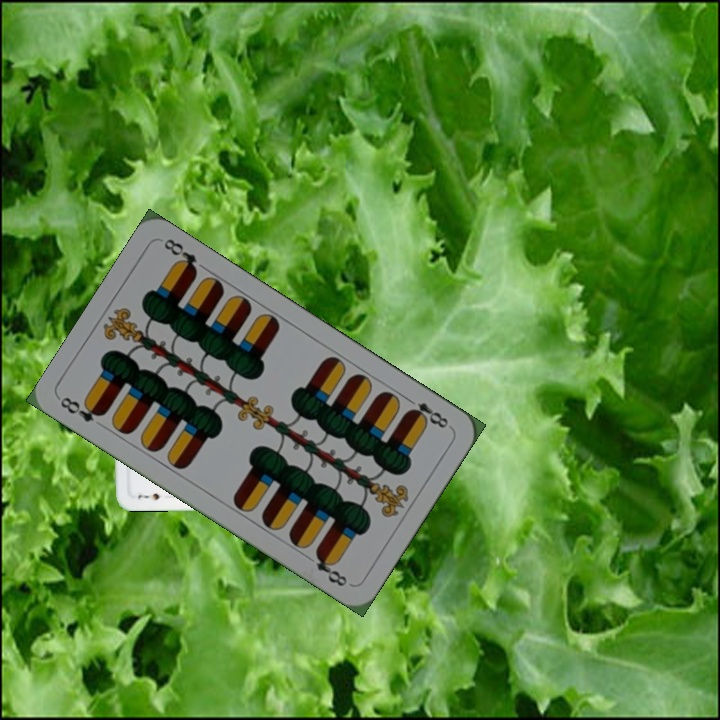E8: (401, 393, 451, 431), (56, 393, 108, 425)
S7: (133, 489, 162, 502)
